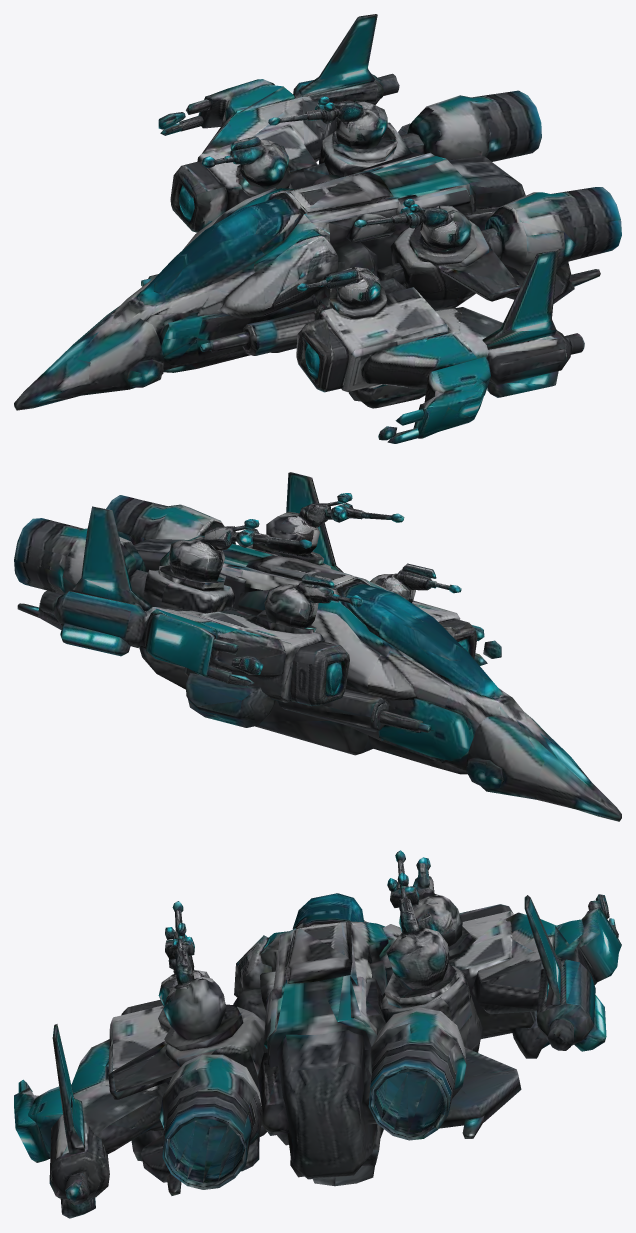
The model's file is dart.glb.
The picture shows the model from 3 angles, top to bottom: view 1: azimuth 30°, elevation 25°; view 2: azimuth 150°, elevation 25°; view 3: azimuth 270°, elevation 25°; orthographic projection. The views are drawn at different scales.
Size of the model in its own units: 1 by 0.4532 by 0.7676.
1 material, 1 textured.
